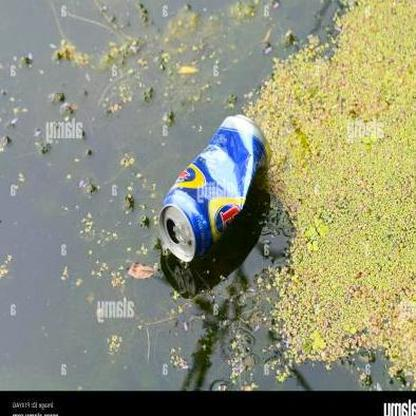can: (156, 114, 266, 264)
